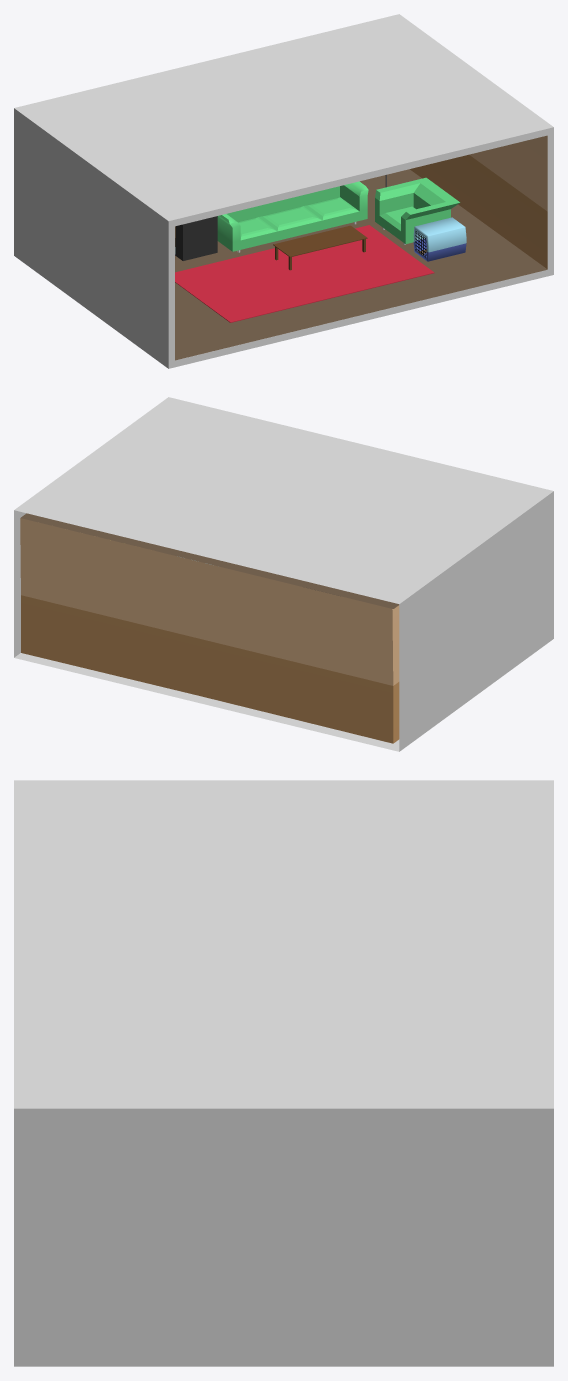
The model's file is rmWaitingA1 (1).fbx.
3 views of the same model, one above another, from view 1: azimuth 30°, elevation 25°; view 2: azimuth 150°, elevation 25°; view 3: azimuth 270°, elevation 25° (orthographic). The views are drawn at different scales.
Parts seen in each view (by area): view 1: rmWaitingExterior, rmWaiting, waitRug, waitSofa, waitChair, WaitCrate004, waitCoffeMachine, waitTable; view 2: rmWaitingExterior, rmWaiting; view 3: rmWaitingExterior.
Part boxes in pixels (bbox=[...]): rmWaitingExterior: bbox=[14, 14, 553, 368]; rmWaiting: bbox=[175, 135, 547, 360]; waitRug: bbox=[175, 225, 434, 322]; waitSofa: bbox=[217, 181, 368, 251]; waitChair: bbox=[375, 177, 460, 243]; WaitCrate004: bbox=[413, 217, 466, 261]; waitCoffeMachine: bbox=[175, 216, 217, 260]; waitTable: bbox=[273, 225, 367, 270]; rmWaitingExterior: bbox=[14, 397, 553, 751]; rmWaiting: bbox=[20, 513, 399, 743]; rmWaitingExterior: bbox=[14, 780, 553, 1366].
Size of the model in its own units: 99.91 by 36.59 by 69.44.
Materials: 16 (14 with a texture image).
